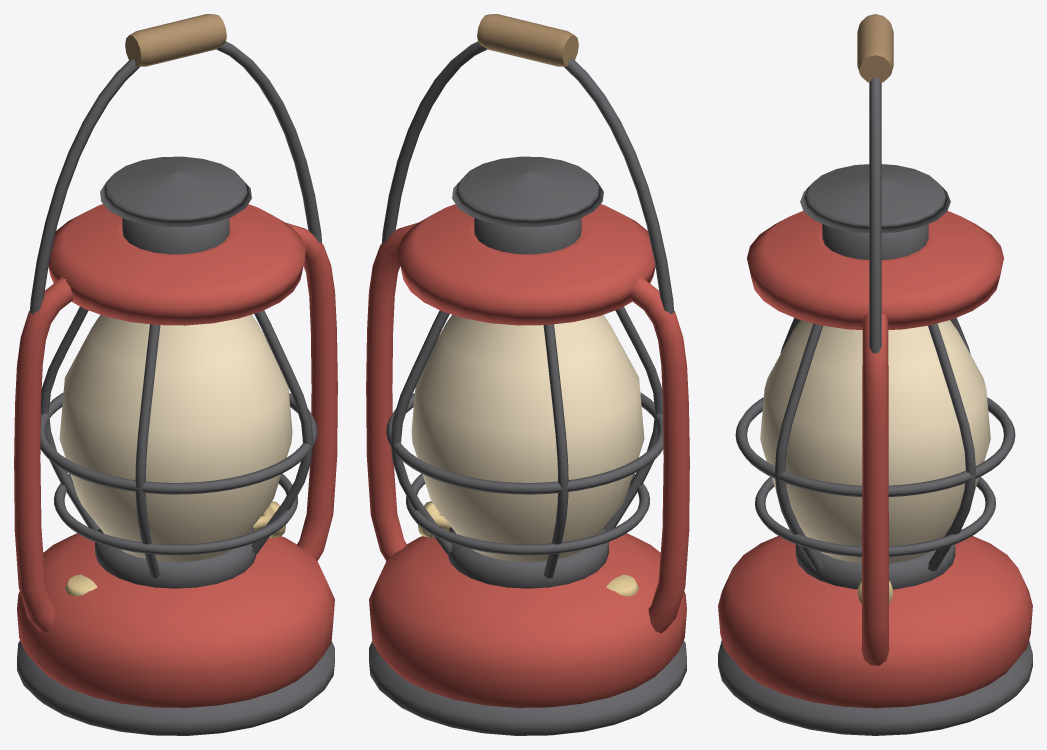
Rendered from item-hal-lantern.glb.
The picture shows the model from 3 angles, left to right: view 1: azimuth 30°, elevation 25°; view 2: azimuth 150°, elevation 25°; view 3: azimuth 270°, elevation 25°; orthographic projection.
Size of the model in its own units: 0.1643 by 0.3182 by 0.142.
